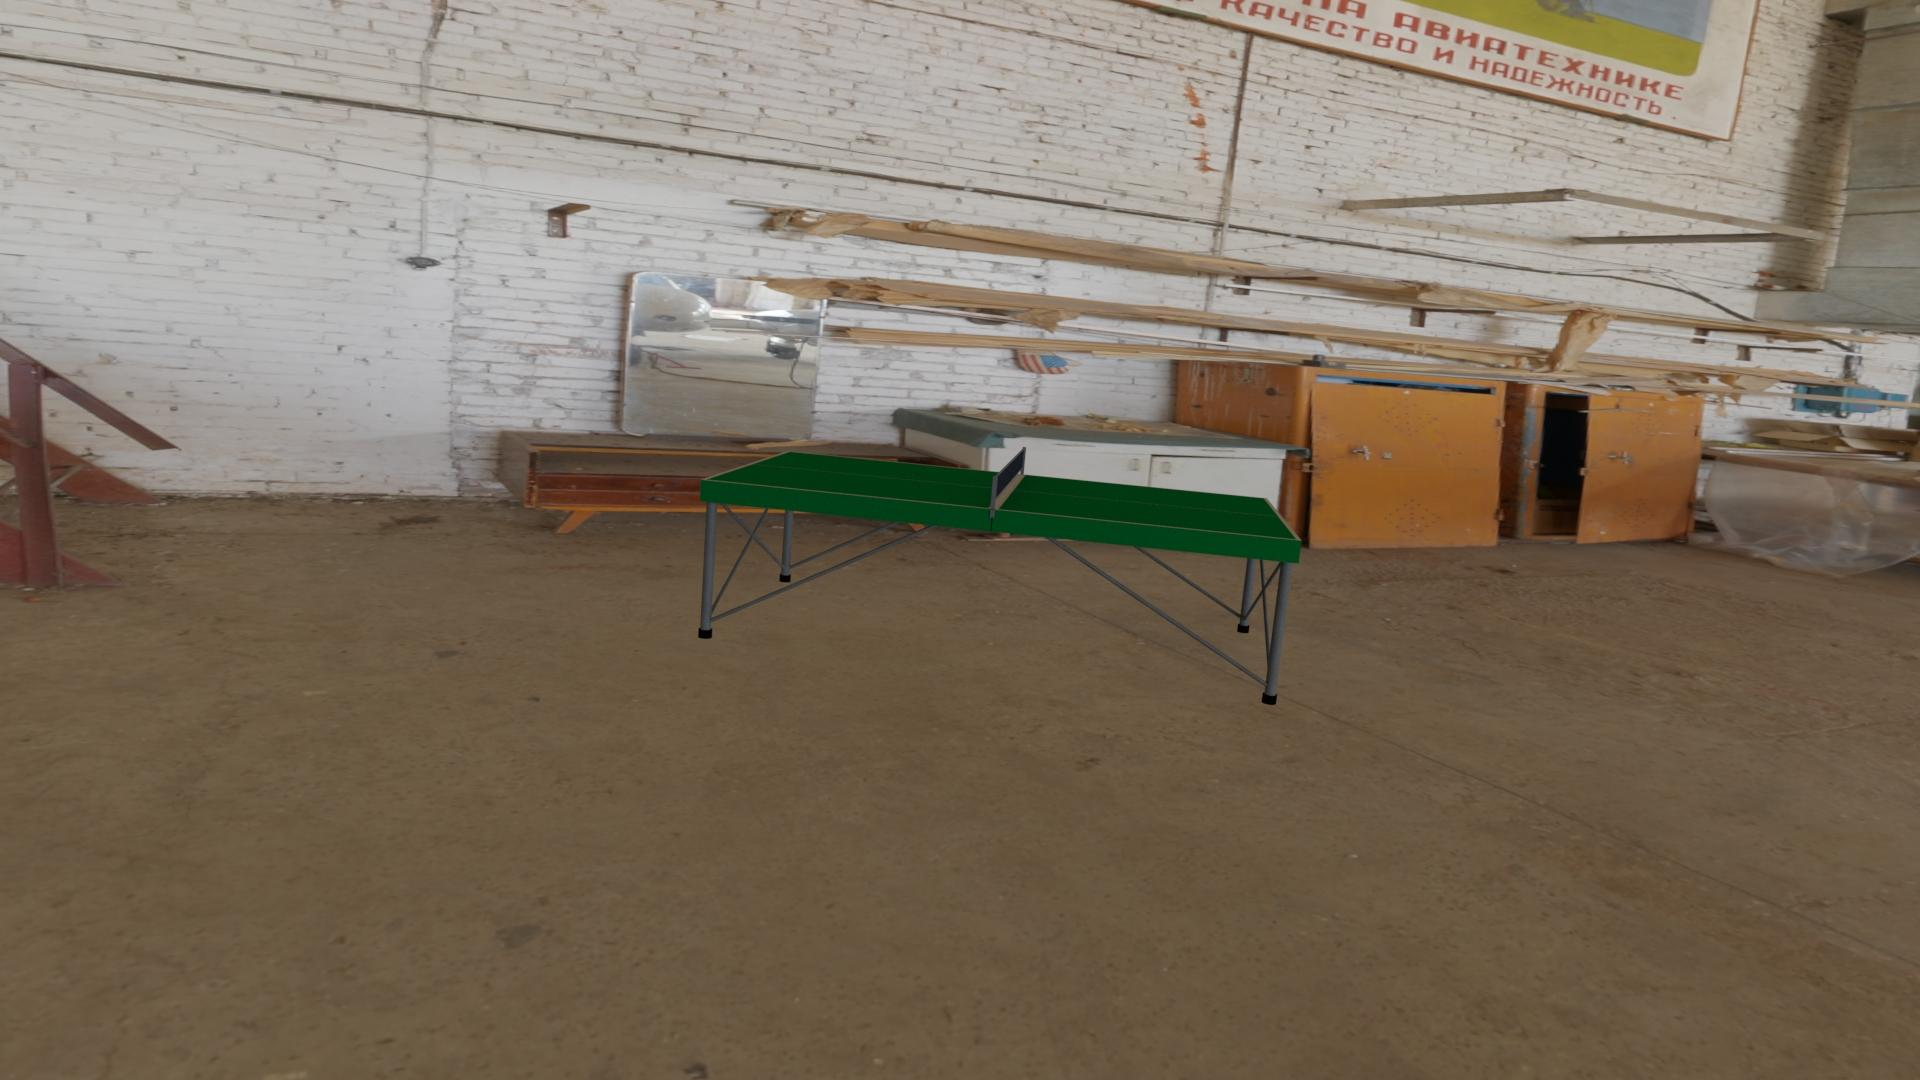table: (707, 452, 1296, 539)
